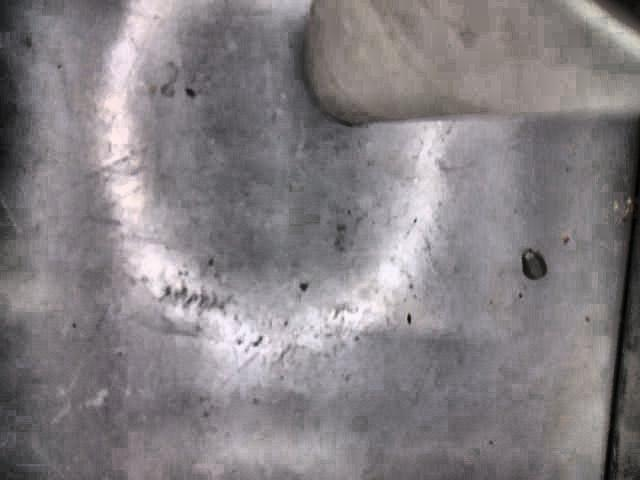Paper: (301, 0, 640, 127)
